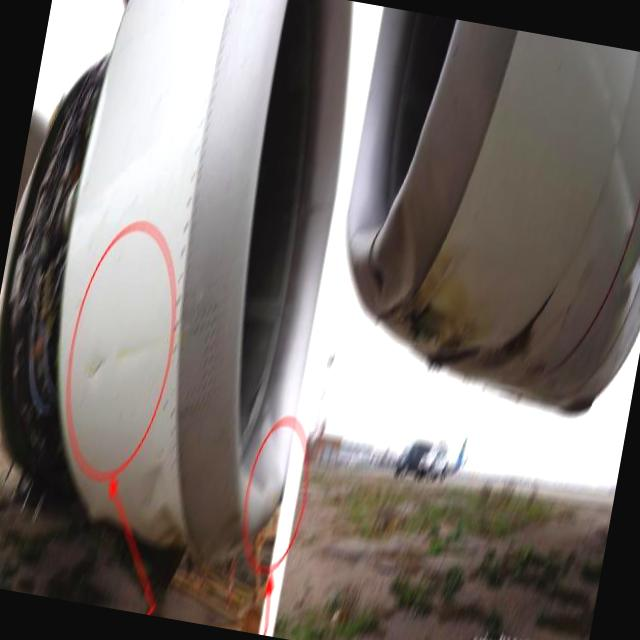crack: (82, 344, 111, 388)
dent: (127, 454, 196, 556)
